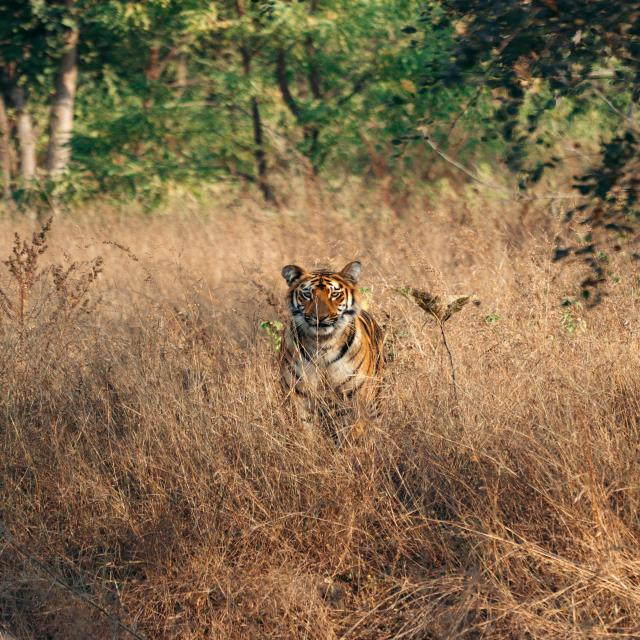Tiger: (280, 260, 383, 448)
